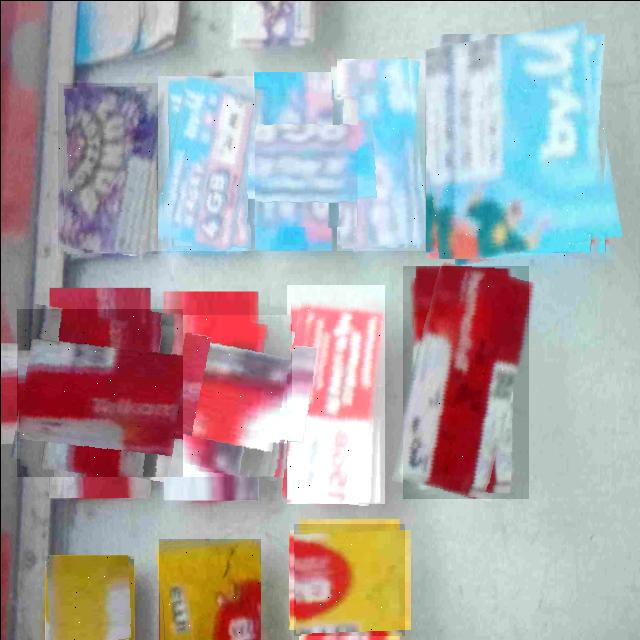Axis: (57, 82, 157, 253)
Telkomsel: (402, 265, 528, 498), (16, 308, 182, 476), (129, 314, 291, 476), (286, 284, 384, 503)
byu: (425, 27, 613, 258), (226, 95, 357, 226), (157, 75, 254, 250), (336, 58, 424, 250)
im3: (293, 523, 404, 635), (158, 538, 260, 640), (45, 555, 133, 640)
